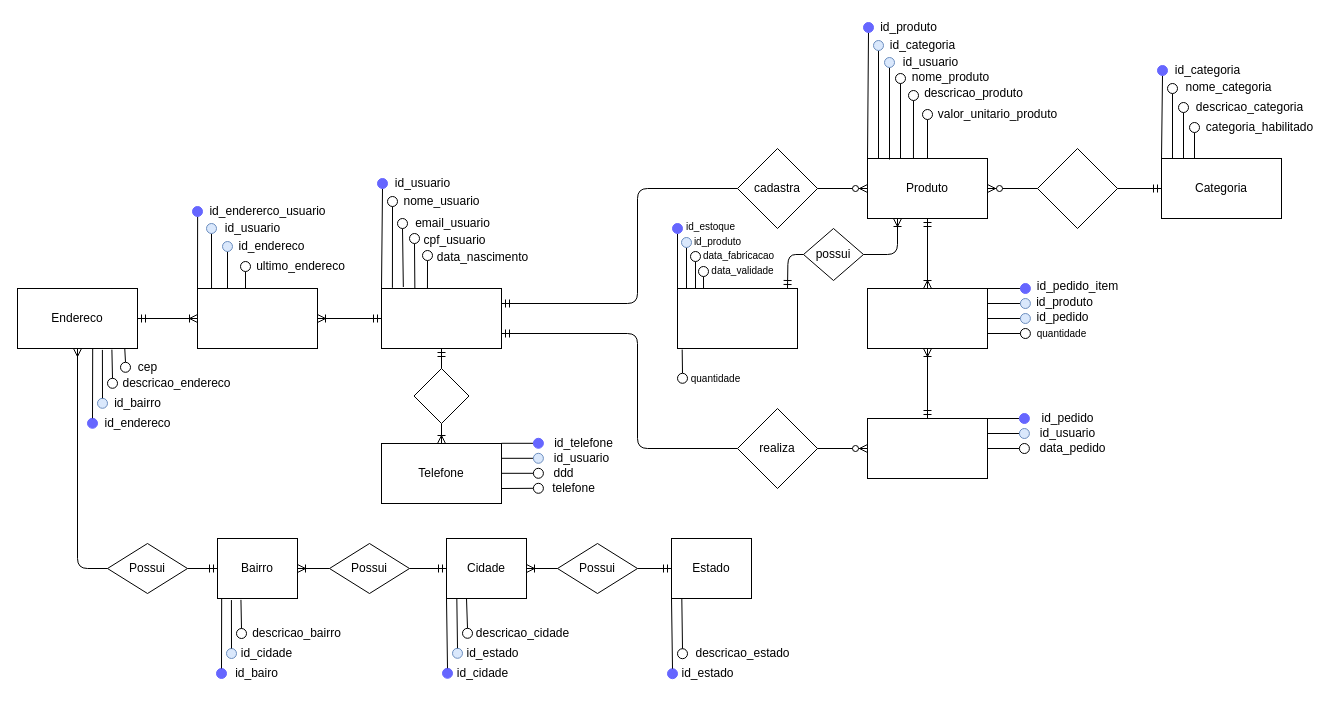
This 1337x701 diagram has some shape labels left out. The shapes that lost their labels are listed below. From the top down, each one's centre as x and y in pixels, then its label:
At pixel 1077 188: "pertence".
At pixel 257 318: "Endereco_Usuario".
At pixel 441 318: "Usuario".
At pixel 737 318: "Estoque".
At pixel 927 318: "Pedido_Item".
At pixel 441 396: "tem".
At pixel 927 448: "Pedido".
